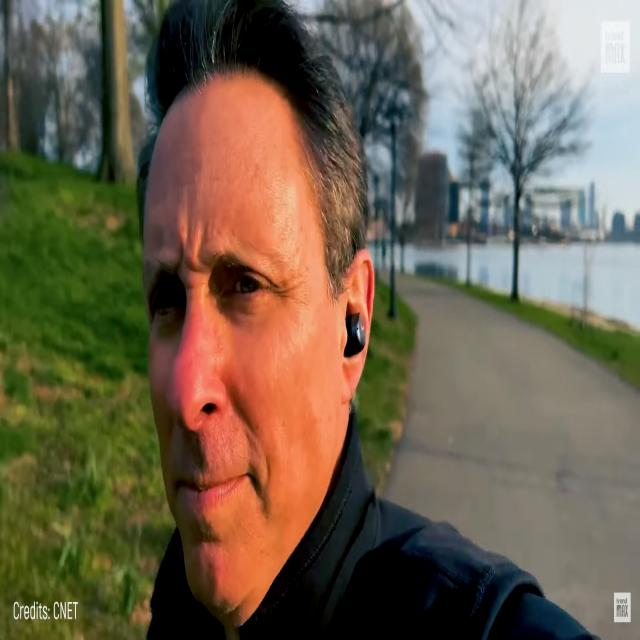airpods: (344, 308, 367, 364)
